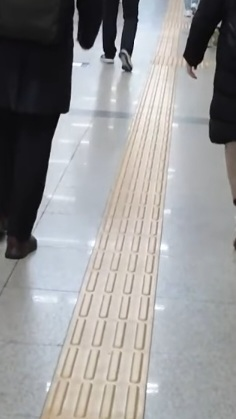guideBlock: (50, 379, 145, 419), (55, 347, 142, 386), (81, 287, 148, 337), (89, 249, 161, 285), (73, 320, 148, 353), (90, 277, 164, 310), (99, 231, 162, 262), (99, 215, 164, 241)
